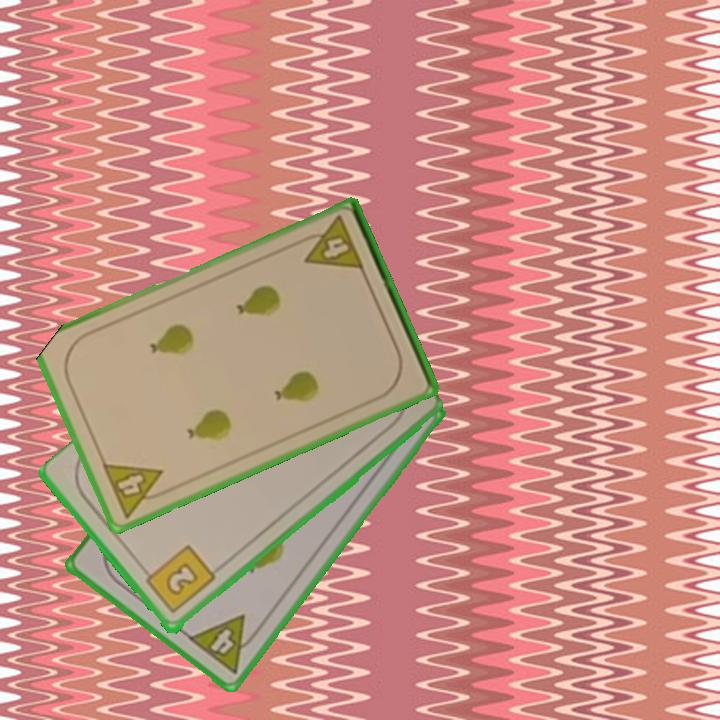2b: (138, 542, 219, 617)
4p: (184, 611, 265, 678), (98, 459, 174, 521), (294, 212, 366, 274)
